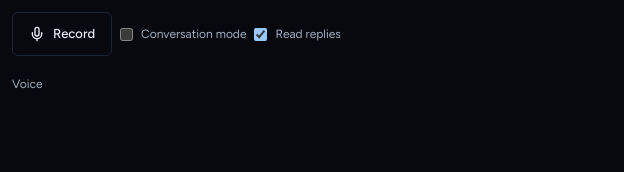
Test: compact voice conversation controls › keeps Cancel available while preparing an empty transcript
Click the button "Record": [62, 34] box x1=12 y1=12 x2=112 y2=56
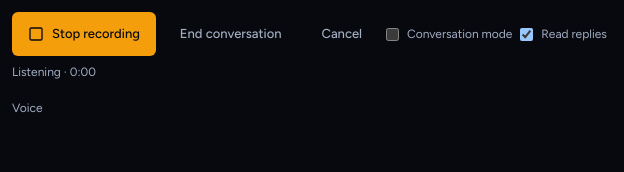
Click the button "Stop recording": [84, 34] box x1=12 y1=12 x2=156 y2=56
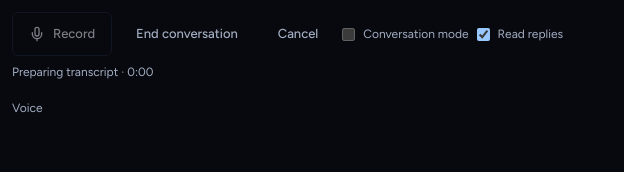
expect the message shows "Preparing transcript": met, box x1=12 y1=65 x2=118 y2=79
Click the button "Cancel": [298, 34] box x1=262 y1=12 x2=334 y2=56
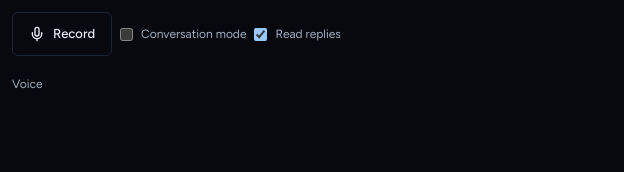
expect the button "Record" is enabled: met, box x1=12 y1=12 x2=112 y2=56
